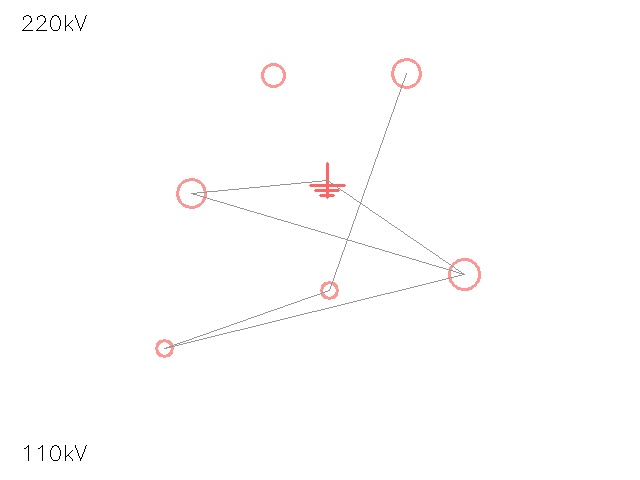feeder_terminal: (148, 332, 180, 364)
fuse: (378, 45, 434, 101)
ground: (310, 163, 344, 197)
load_break_switch: (313, 274, 345, 306)
surge_arrester: (434, 244, 494, 304)
voltage_transformer: (163, 165, 219, 221), (250, 52, 296, 98)
